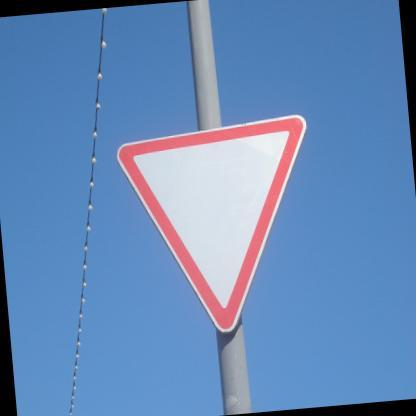road_sign: (119, 115, 306, 332)
